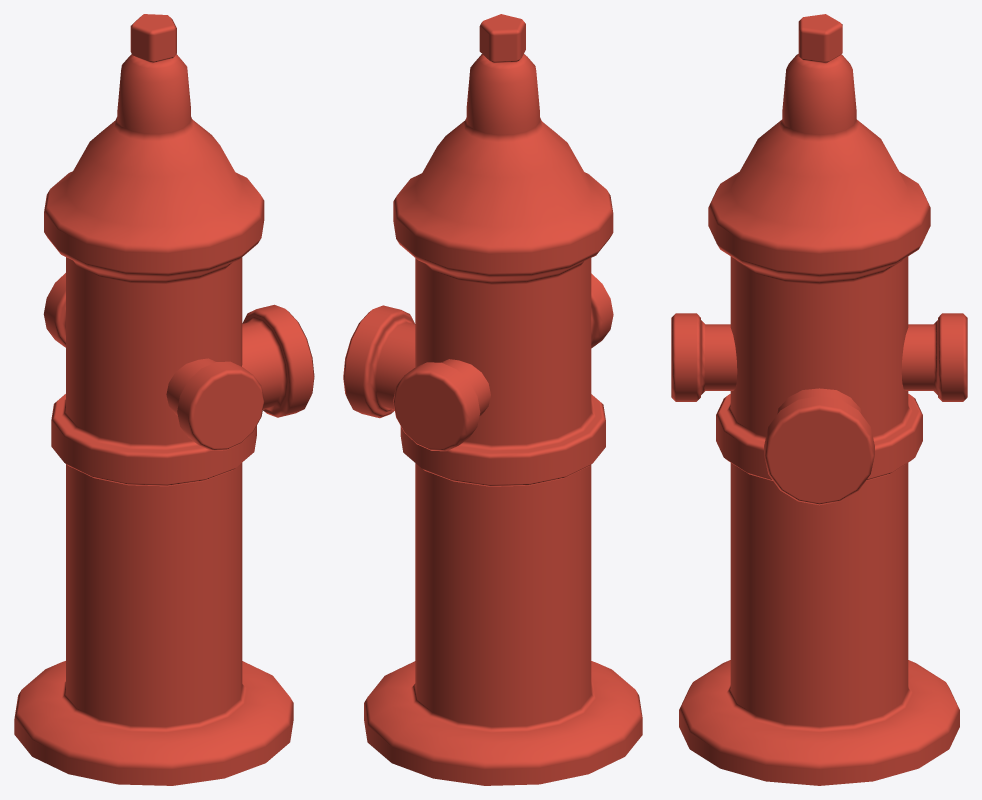
Rendered from fire_hydrant_la.glb.
3 renders of one model, left to right at view 1: azimuth 30°, elevation 25°; view 2: azimuth 150°, elevation 25°; view 3: azimuth 270°, elevation 25°, orthographic.
Visible parts, largest first — view 1: FireHydrant_LA; view 2: FireHydrant_LA; view 3: FireHydrant_LA.
Boxes of the visible parts, x1,y1,x2,y2 form: FireHydrant_LA: [14, 14, 314, 785]; FireHydrant_LA: [343, 14, 642, 785]; FireHydrant_LA: [671, 14, 967, 785].
Bounding box in the file's own units: 0.4 × 1.05 × 0.4.
